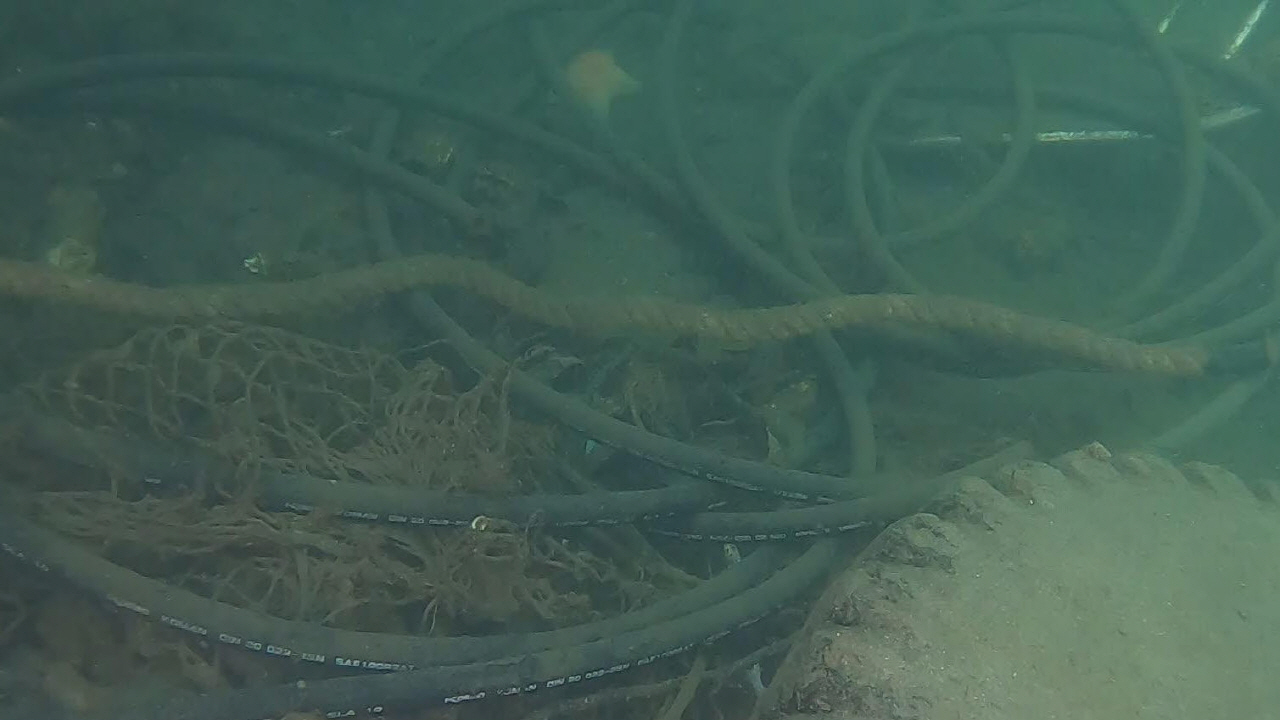rope: (0, 248, 1207, 387)
